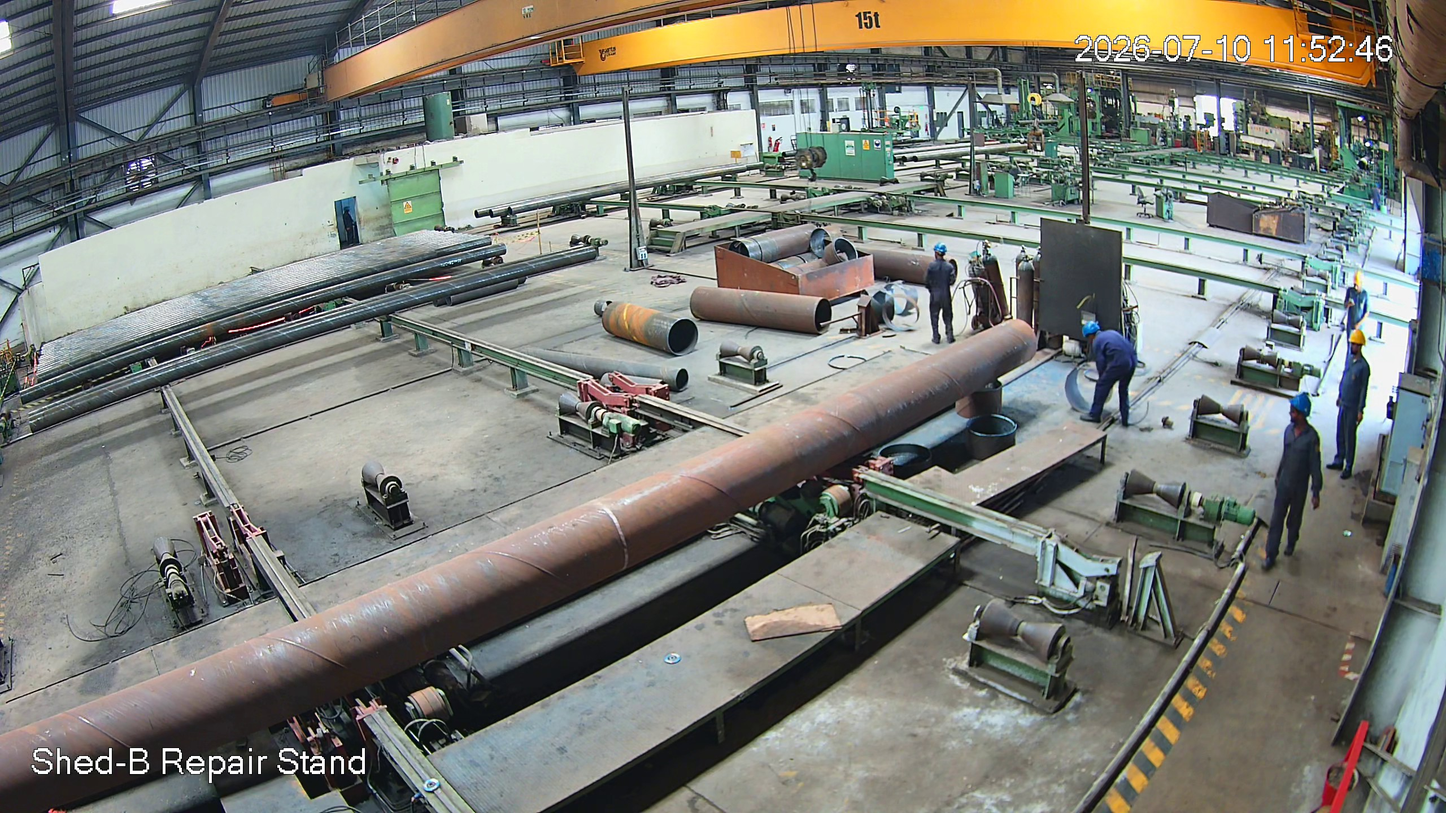Helmet: (1275, 388, 1314, 434), (1079, 309, 1104, 349), (1344, 327, 1370, 362), (928, 238, 955, 268), (1348, 268, 1371, 299)
Person: (1269, 393, 1323, 572), (1076, 315, 1139, 436), (1336, 330, 1372, 489), (922, 239, 962, 345), (1345, 271, 1372, 331)
